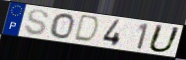1: (137, 23, 150, 51)
4: (101, 19, 122, 47)
D: (72, 13, 101, 44)
O: (49, 13, 76, 40)
S: (23, 8, 51, 36)
U: (146, 23, 183, 54)
